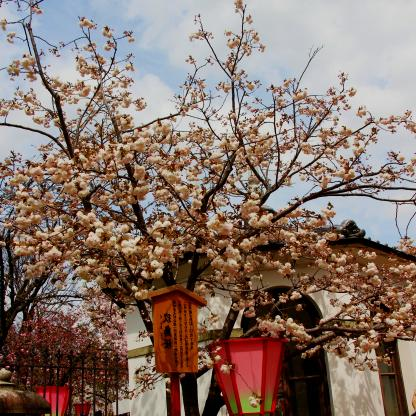Someiyoshino: (0, 0, 416, 372)
YaeSakura: (1, 311, 86, 394), (74, 331, 126, 399)
